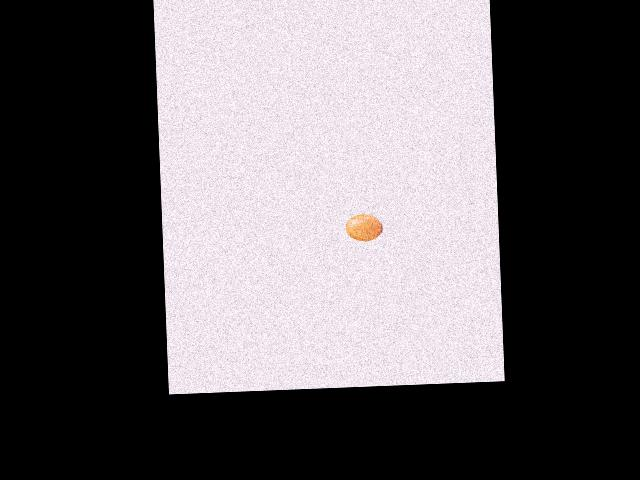egg: (345, 214, 382, 242)
